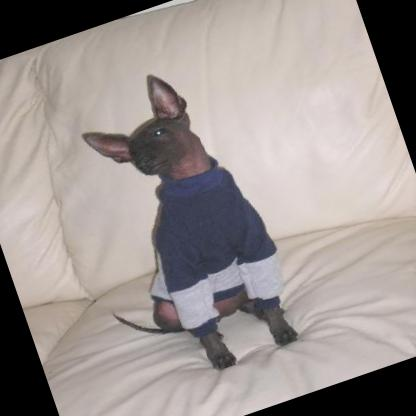Mexican_hairless: (35, 47, 314, 402)
